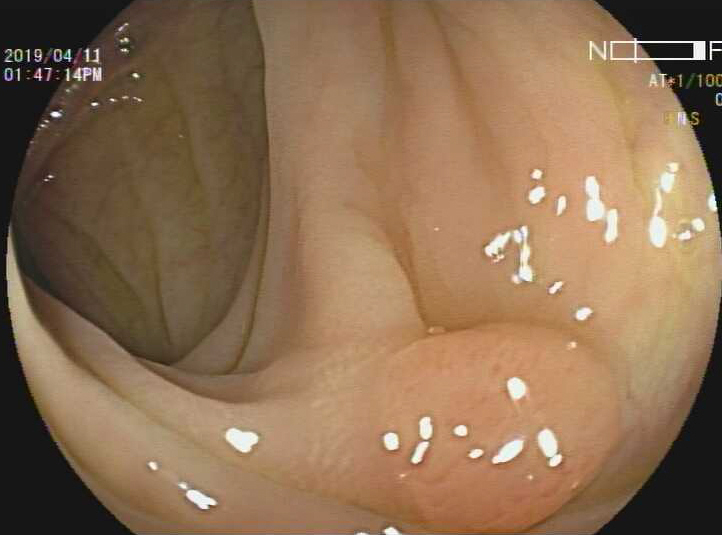adenoma: (356, 323, 620, 535)
